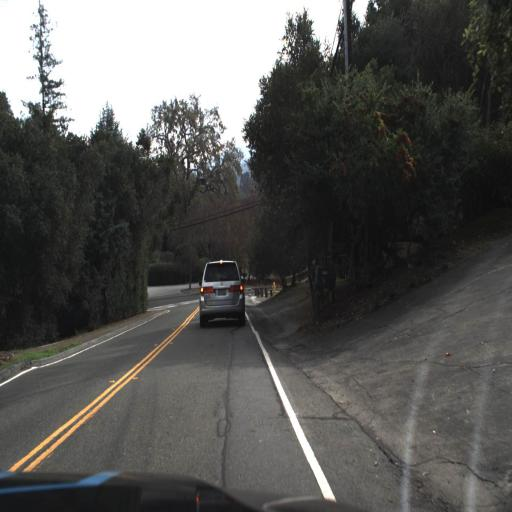car: (184, 248, 254, 325)
